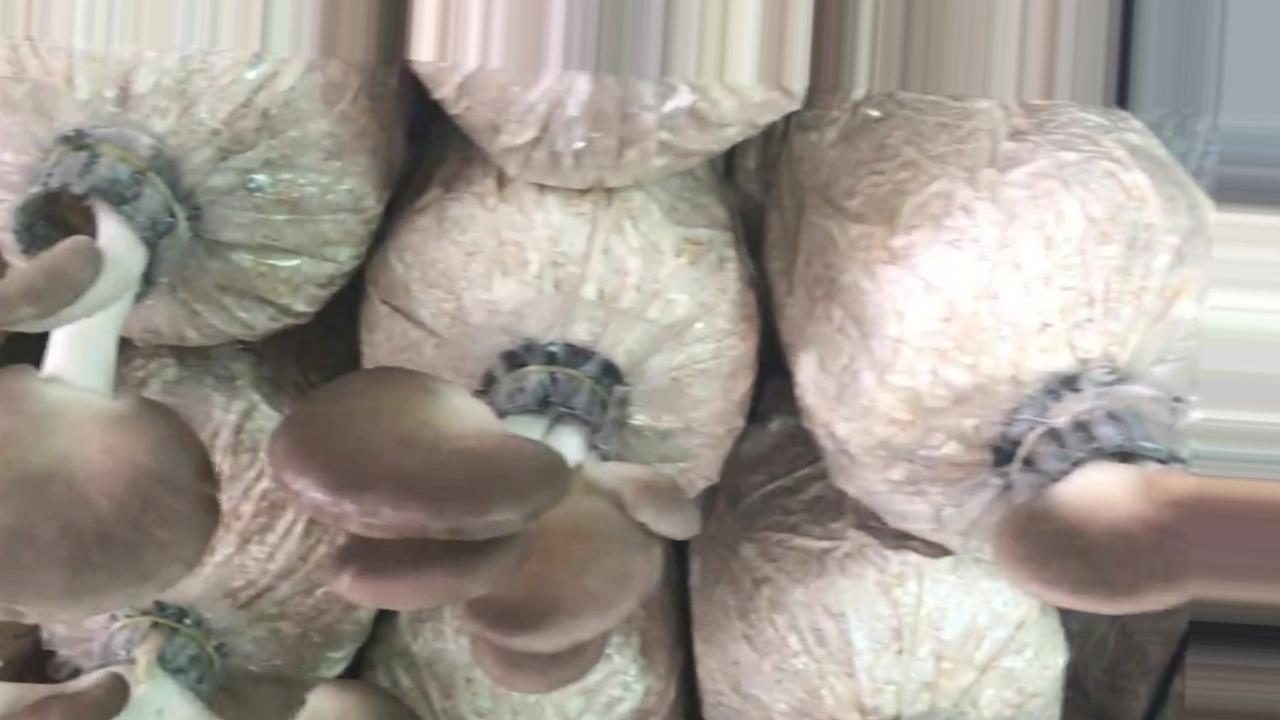nam: (260, 357, 705, 698), (1, 135, 227, 617), (991, 402, 1280, 616)
